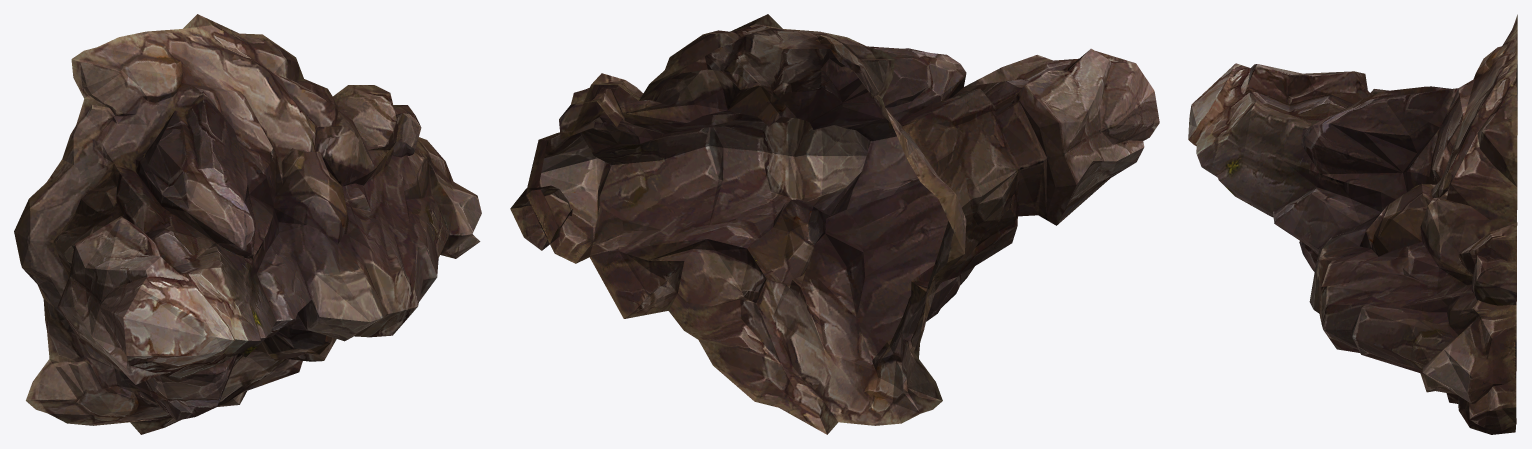
Rendered from huodong_fuben_416_shitou04.obj.
The picture shows the model from 3 angles, left to right: view 1: azimuth 30°, elevation 25°; view 2: azimuth 150°, elevation 25°; view 3: azimuth 270°, elevation 25°; orthographic projection. The views are drawn at different scales.
Visible parts, largest first — view 1: huodong_fuben_416_shitou04; view 2: huodong_fuben_416_shitou04; view 3: huodong_fuben_416_shitou04.
Boxes of the visible parts, <box> form: huodong_fuben_416_shitou04: <box>14,14,481,434</box>; huodong_fuben_416_shitou04: <box>510,14,1159,434</box>; huodong_fuben_416_shitou04: <box>1188,14,1517,434</box>.
Size of the model in its own units: 795 by 632 by 508.
2 materials, 2 textured.
